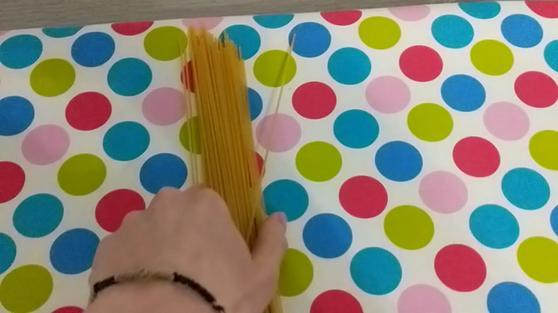spaghetti: (170, 16, 270, 196)
